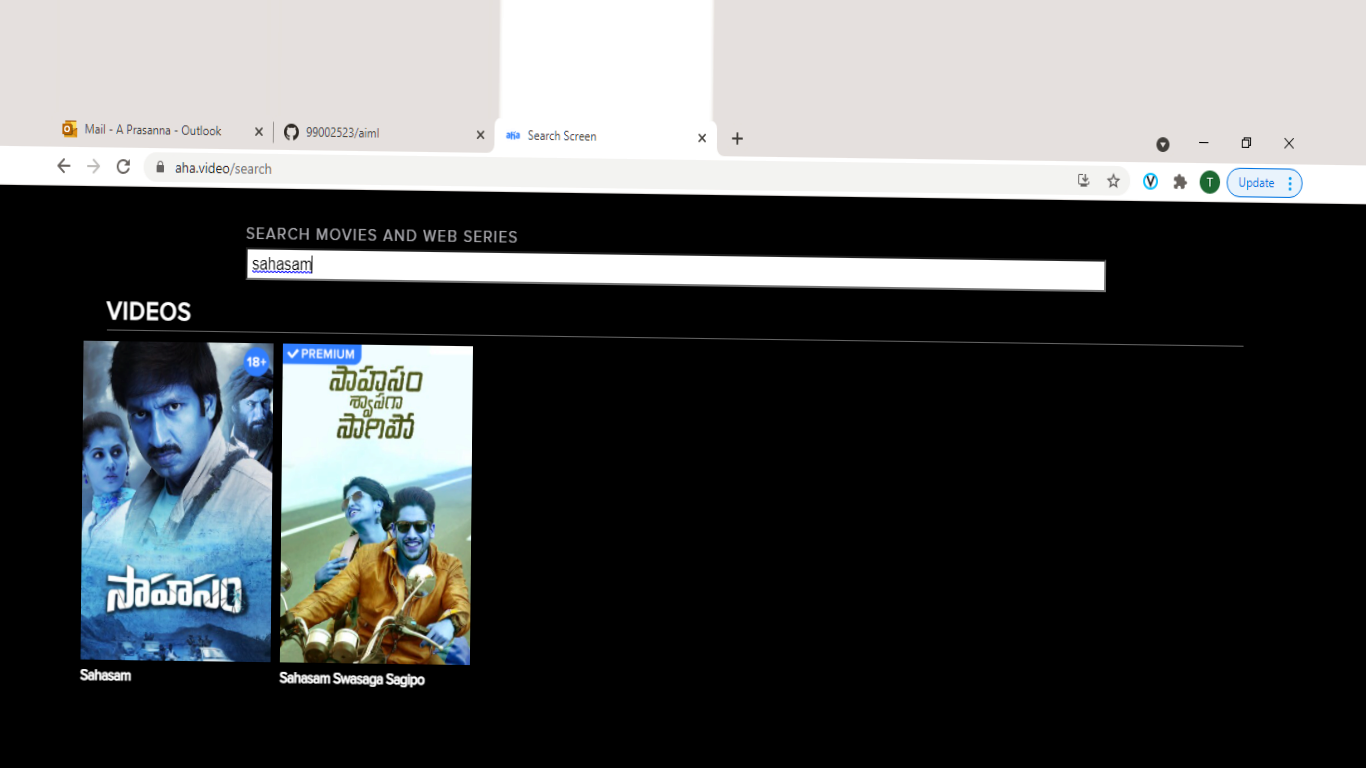resultsfound: (83, 275, 379, 340)
searchtextbox: (227, 216, 1133, 314)
